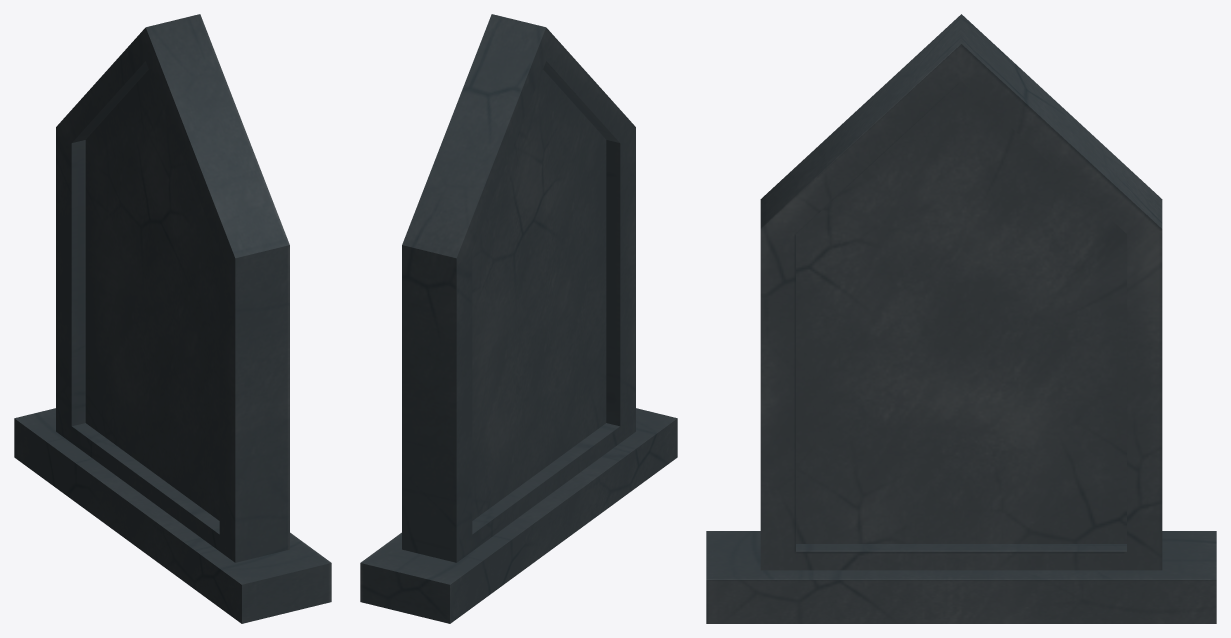
Rendered from Gravestone7_Model.fbx.
The picture shows the model from 3 angles, left to right: view 1: azimuth 30°, elevation 25°; view 2: azimuth 150°, elevation 25°; view 3: azimuth 270°, elevation 25°; orthographic projection. The views are drawn at different scales.
Parts seen in each view (by area): view 1: Gravestone7; view 2: Gravestone7; view 3: Gravestone7.
Part boxes in pixels (bbox=[...]): Gravestone7: bbox=[14, 14, 331, 623]; Gravestone7: bbox=[360, 14, 677, 623]; Gravestone7: bbox=[706, 14, 1216, 623].
Size of the model in its own units: 8.43 by 45.61 by 36.95.
